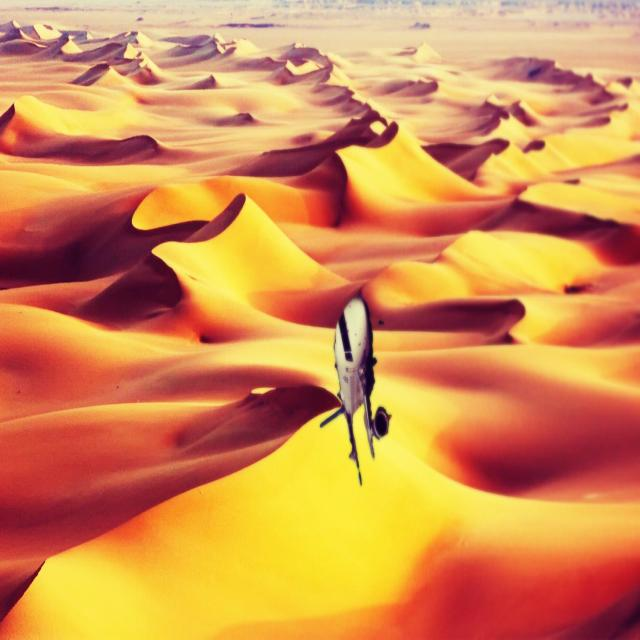airplane: (319, 292, 393, 490)
